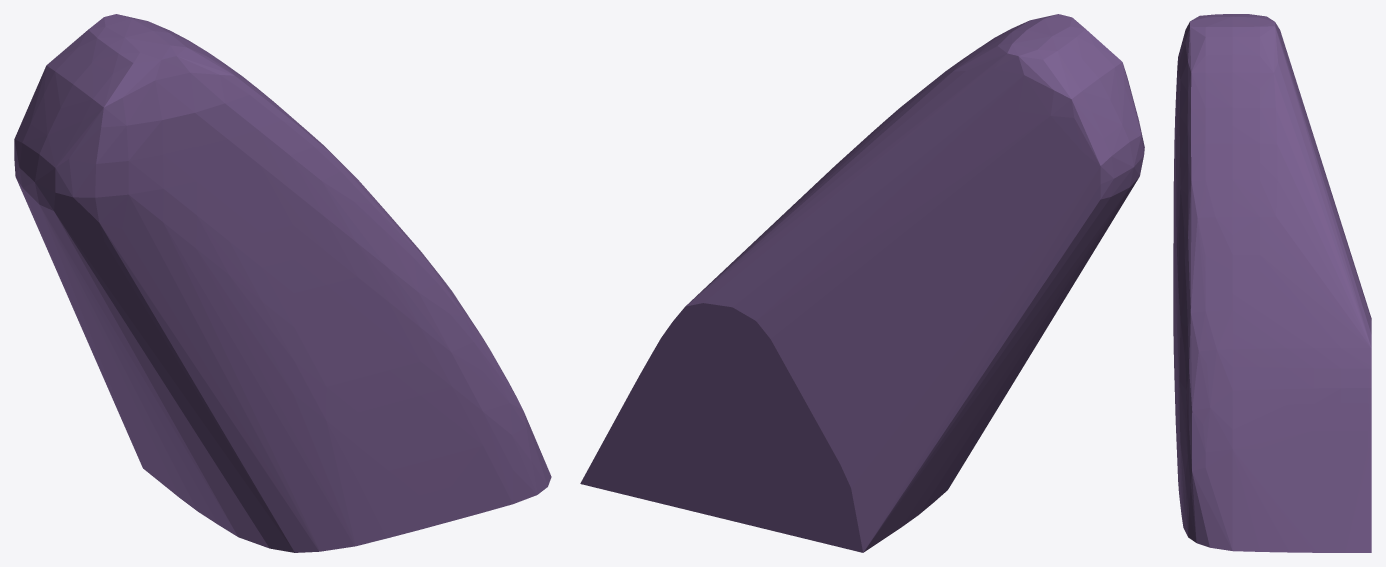
3 views of the same model, side by side, from view 1: azimuth 30°, elevation 25°; view 2: azimuth 150°, elevation 25°; view 3: azimuth 270°, elevation 25° (orthographic). The views are drawn at different scales.
Bounding box in the file's own units: 0.0312 × 0.0305 × 0.0143.
